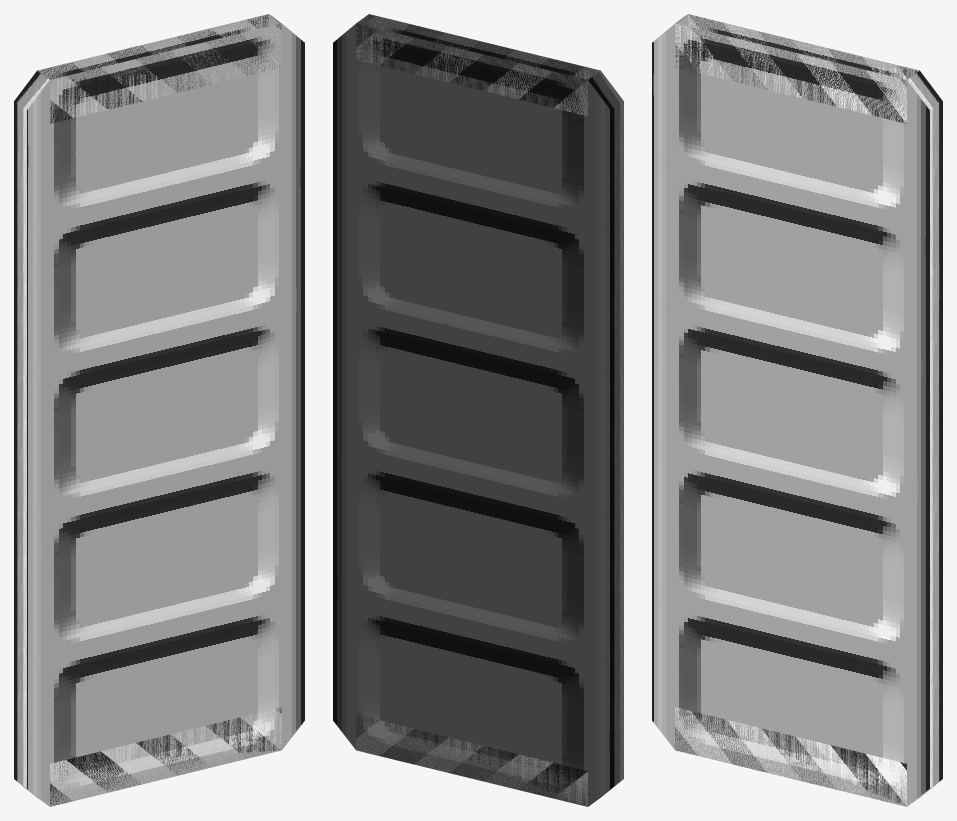
File: Pdoor_dest1Z.obj
The picture shows the model from 3 angles, left to right: view 1: azimuth 30°, elevation 25°; view 2: azimuth 150°, elevation 25°; view 3: azimuth 330°, elevation 25°; orthographic projection.
Bounding box in the file's own units: 350 × 875 × 28.
Materials: 3 (3 with a texture image).
